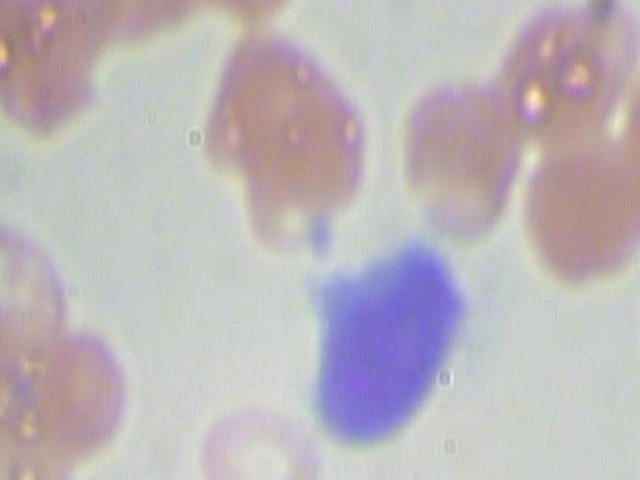Platelets: (304, 209, 339, 266)
RBC: (240, 49, 369, 226), (397, 69, 525, 246), (514, 120, 640, 299), (31, 314, 129, 464), (0, 0, 104, 138), (196, 404, 325, 480), (188, 0, 323, 37), (0, 0, 48, 103)
WBC: (306, 238, 475, 450)
